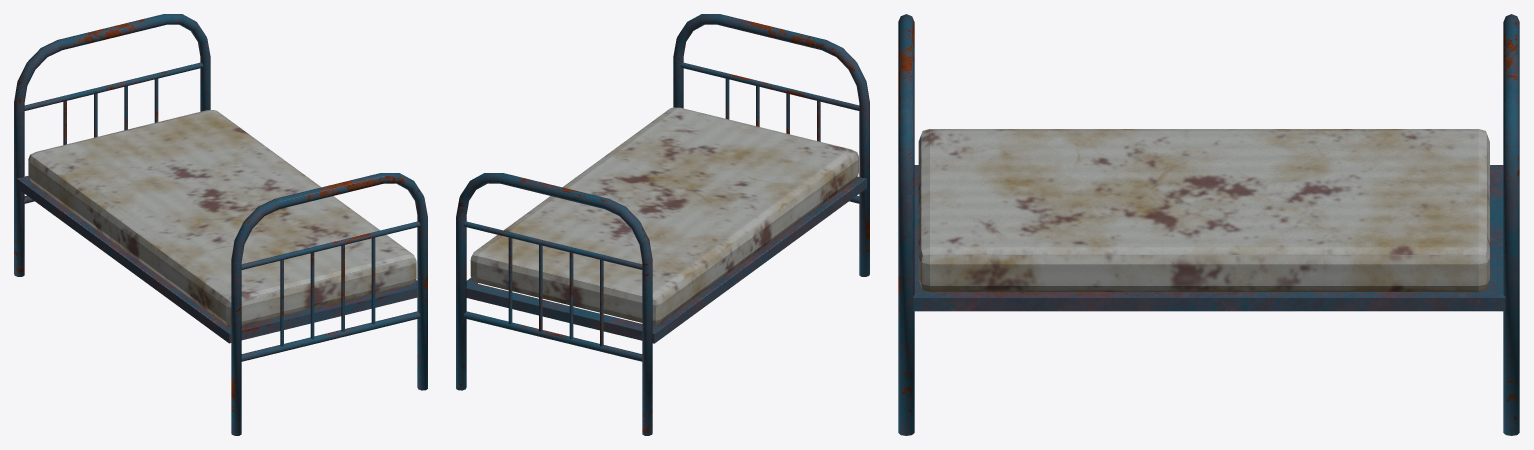
The model's file is old_bed.glb.
The picture shows the model from 3 angles, left to right: view 1: azimuth 30°, elevation 25°; view 2: azimuth 150°, elevation 25°; view 3: azimuth 270°, elevation 25°; orthographic projection. The views are drawn at different scales.
Visible parts, largest first — view 1: Low; view 2: Low; view 3: Low.
Part boxes in pixels (box(x1,y1,x2,y2)): Low: box(14, 14, 427, 435); Low: box(456, 14, 869, 435); Low: box(898, 14, 1519, 435).
Bounding box in the file's own units: 1.1 × 1.21 × 2.17.
Materials: 1 (1 with a texture image).
